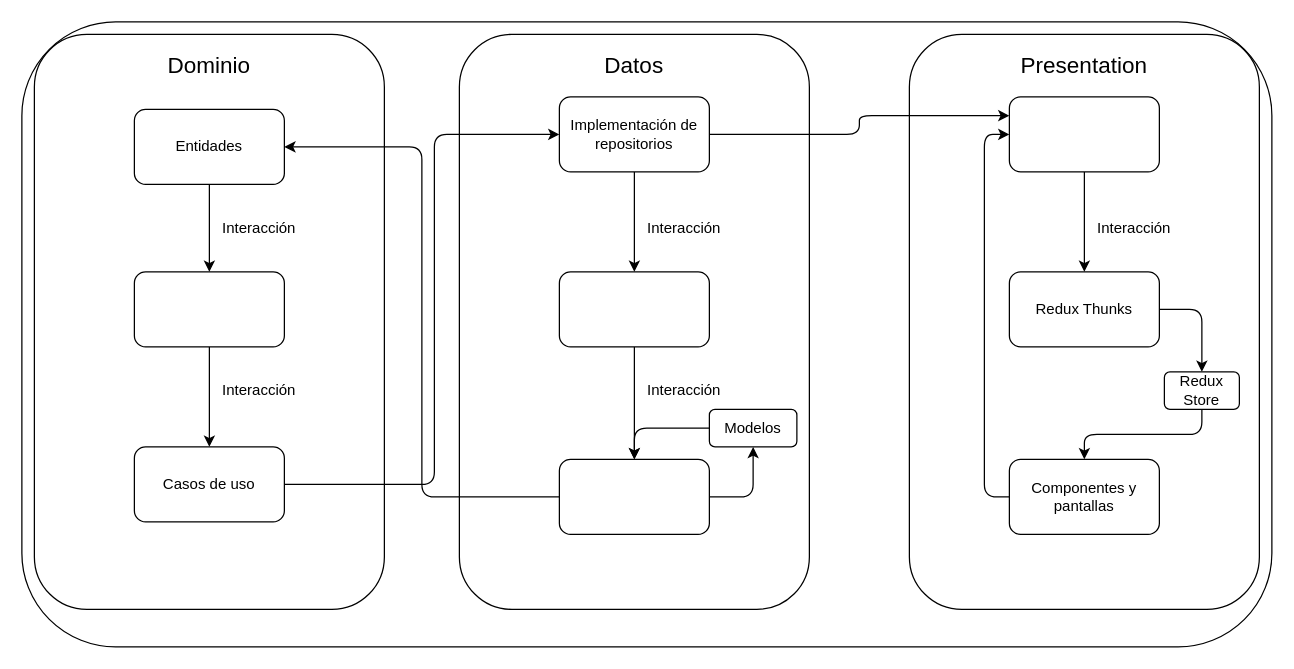
This 1294x669 diagram has some shape labels left out. Here are the shapes that lost their labels. From the top down, the box of each, then its label:
(1008, 96, 1159, 172): ViewModels
(133, 271, 284, 347): Respositorios Interfaces
(558, 271, 709, 347): DataSources (Peticiones API)
(558, 458, 709, 534): Mappers
